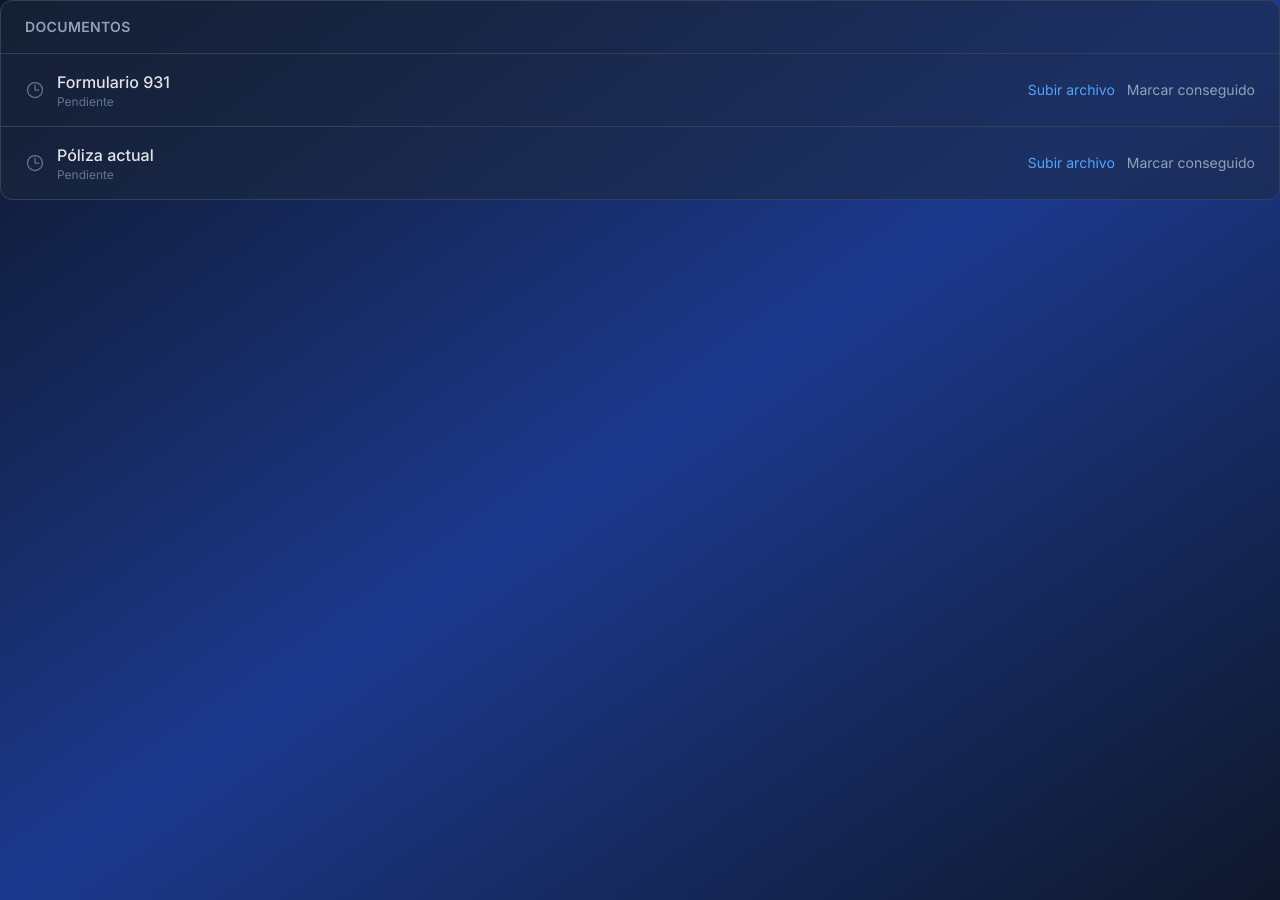
ArtDocumentosChecklist › marcar conseguido: hace PATCH sin archivo, recarga, y oculta el botón una vez conseguido
This screenshot has width=1280, height=900.
Step 1. Click the button "Marcar conseguido" in the row of "Formulario 931" → x=1191, y=90, box 1127,80 -> 1255,100
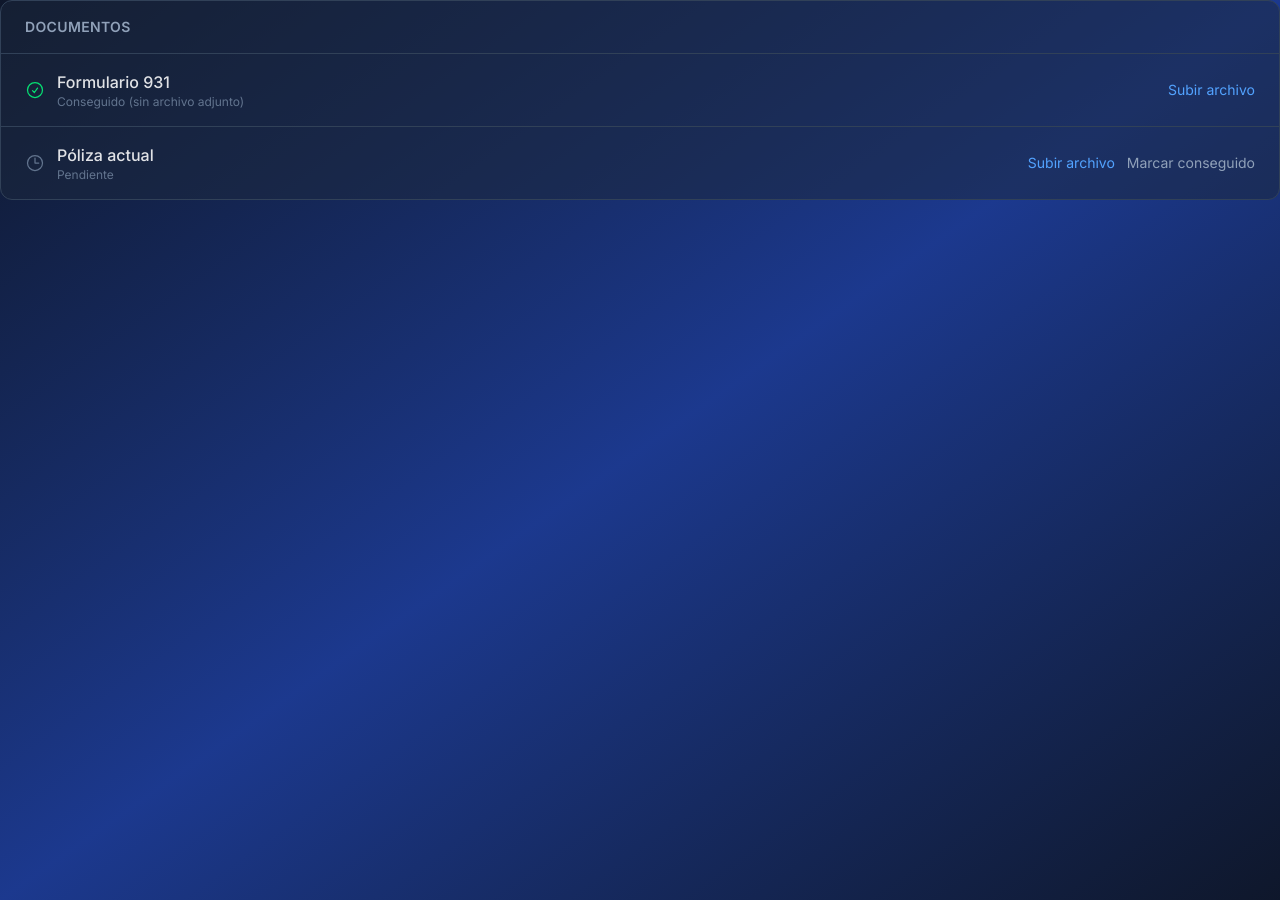
Expected: the number of buttons "Marcar conseguido" is 1, 1127,153 -> 1255,173
Now the text "Conseguido (sin archivo adjunto)" is shown, box 57,94 -> 244,110
